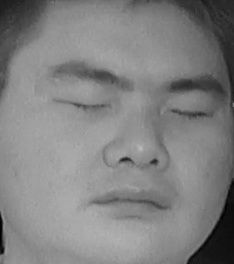blink: (61, 86, 111, 120), (173, 96, 219, 128)
mouth: (94, 180, 174, 225)
